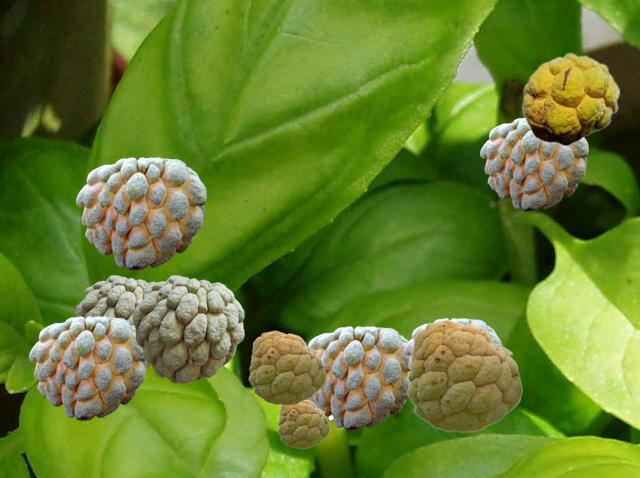atis: (76, 157, 205, 269), (406, 319, 521, 431), (29, 316, 147, 419), (132, 275, 243, 382), (308, 326, 409, 429), (480, 117, 587, 210), (521, 52, 619, 145), (75, 275, 155, 368), (248, 330, 324, 404), (404, 318, 500, 369), (277, 400, 328, 447)
